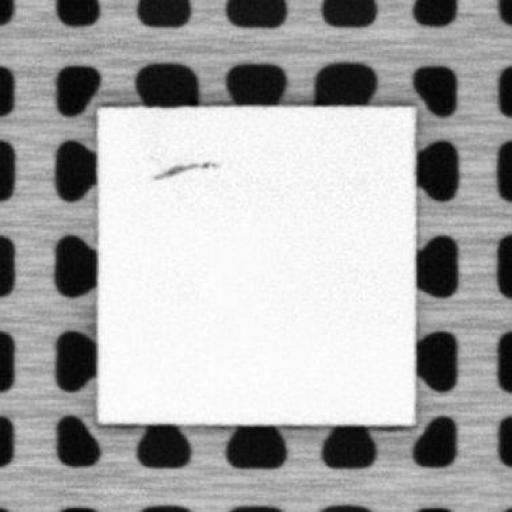DIE_INK: (154, 158, 218, 178)
